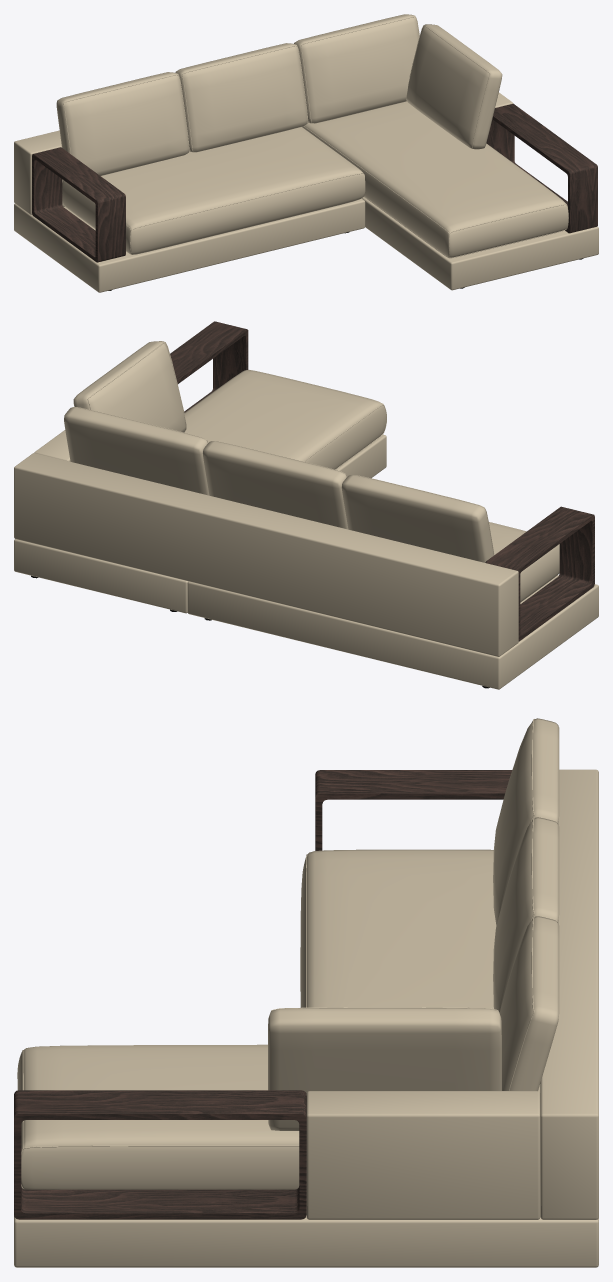
The model's file is 1773829662302-Modena Velvet L Sofa.glb.
3 renders of one model, top to bottom at view 1: azimuth 30°, elevation 25°; view 2: azimuth 150°, elevation 25°; view 3: azimuth 270°, elevation 25°, orthographic. The views are drawn at different scales.
Visible parts, largest first — view 1: Seats, Cushions, Bottom, Woods, Rest; view 2: Rest, Cushions, Bottom, Seats, Woods; view 3: Seats, Rest, Cushions, Bottom, Woods.
Part boxes in pixels (x1,y1,x2,y2): Seats: (62, 101, 568, 258); Cushions: (56, 14, 502, 175); Bottom: (14, 197, 598, 292); Woods: (32, 103, 597, 262); Rest: (14, 92, 513, 214); Rest: (14, 430, 518, 656); Cushions: (64, 341, 494, 562); Bottom: (14, 434, 598, 689); Seats: (184, 370, 559, 602); Woods: (170, 321, 594, 641); Seats: (17, 849, 540, 1189); Rest: (306, 769, 598, 1219); Cushions: (268, 718, 559, 1130); Bottom: (14, 1215, 598, 1267); Woods: (14, 770, 512, 1219).
Bounding box in the file's own units: 2.8 × 0.8982 × 2.
3 materials, 1 textured.
